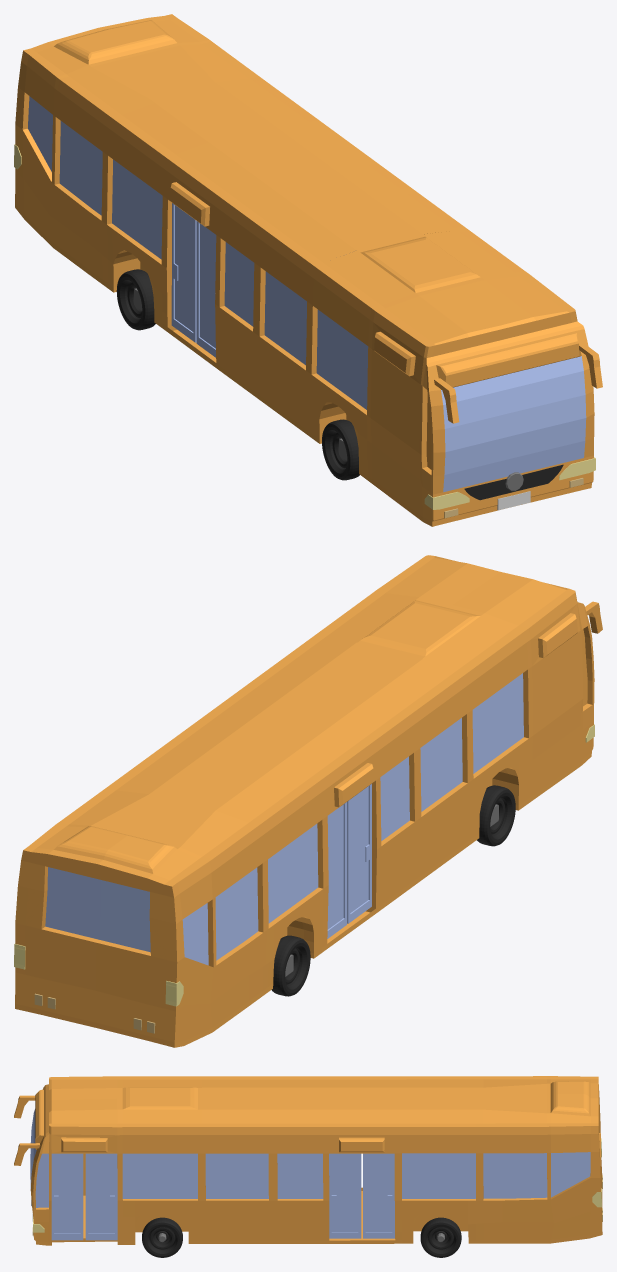
Rendered from City_BusB.fbx.
3 renders of one model, top to bottom at view 1: azimuth 30°, elevation 25°; view 2: azimuth 150°, elevation 25°; view 3: azimuth 270°, elevation 25°, orthographic. The views are drawn at different scales.
Parts seen in each view (by area): view 1: Bus_Body, DoorPanel_D, DoorPanel_C, FrontWheels.002, FrontWheels.001, Grill, Mirrors, FrontUpperLights; view 2: Bus_Body, DoorPanel_C, DoorPanel_D, FrontWheels.002, FrontWheels.001, BackUpperLights; view 3: Bus_Body, DoorPanel_B, DoorPanel_A, DoorPanel_C, DoorPanel_D, FrontWheels.002, FrontWheels.001, Mirrors, FrontWheelAxelInt.001, FrontWheelAxelInt.002.
Boxes of the visible parts, x1=… form: Bus_Body: x1=15, y1=14, x2=594, y2=526; DoorPanel_D: x1=171, y1=203, x2=196, y2=342; DoorPanel_C: x1=196, y1=221, x2=216, y2=357; FrontWheels.002: x1=116, y1=269, x2=155, y2=330; FrontWheels.001: x1=322, y1=419, x2=359, y2=480; Grill: x1=464, y1=464, x2=563, y2=500; Mirrors: x1=434, y1=343, x2=602, y2=423; FrontUpperLights: x1=424, y1=457, x2=595, y2=509; Bus_Body: x1=15, y1=555, x2=594, y2=1047; DoorPanel_C: x1=347, y1=784, x2=371, y2=923; DoorPanel_D: x1=327, y1=802, x2=346, y2=938; FrontWheels.002: x1=271, y1=935, x2=310, y2=996; FrontWheels.001: x1=477, y1=785, x2=515, y2=846; BackUpperLights: x1=14, y1=943, x2=183, y2=1006; Bus_Body: x1=30, y1=1076, x2=602, y2=1245; DoorPanel_B: x1=85, y1=1153, x2=117, y2=1240; DoorPanel_A: x1=51, y1=1153, x2=83, y2=1240; DoorPanel_C: x1=329, y1=1153, x2=361, y2=1238; DoorPanel_D: x1=363, y1=1153, x2=394, y2=1238; FrontWheels.002: x1=420, y1=1217, x2=461, y2=1257; FrontWheels.001: x1=142, y1=1217, x2=182, y2=1257; Mirrors: x1=14, y1=1095, x2=40, y2=1165; FrontWheelAxelInt.001: x1=149, y1=1227, x2=175, y2=1249; FrontWheelAxelInt.002: x1=428, y1=1227, x2=453, y2=1249.
Size of the model in its own units: 856 by 956 by 3713.
